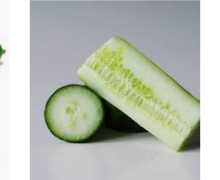Kumquat: (43, 72, 109, 142)
